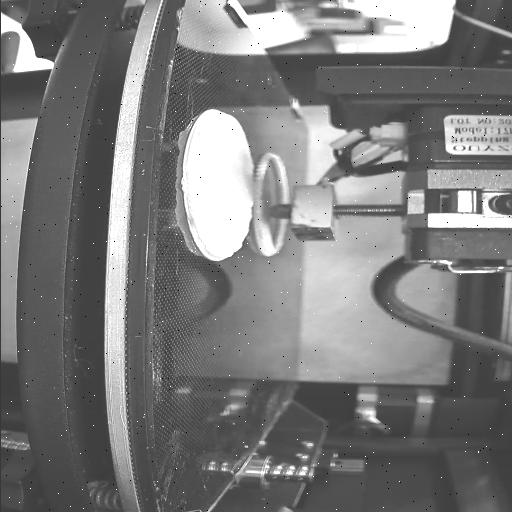over_extrusion: (200, 242, 244, 260)
